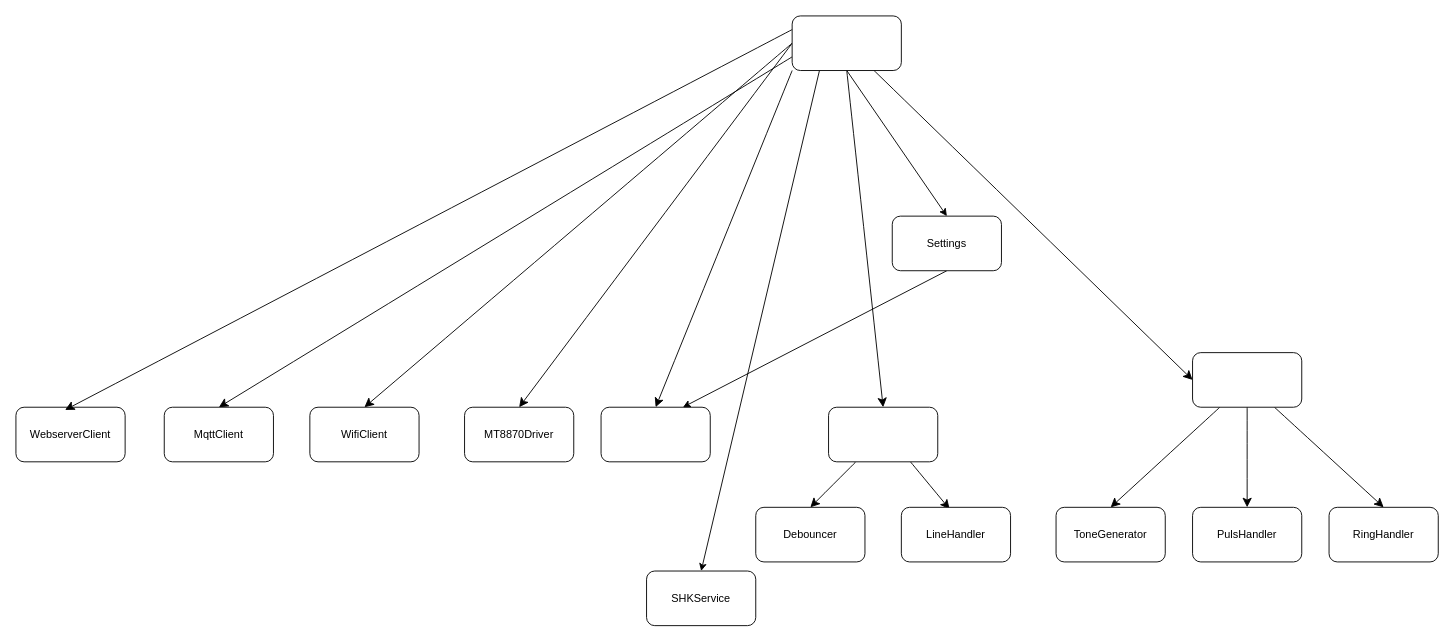
Some shapes in this 1454 by 642 pixel diagram are drawn without their labels. Here are the shapes that lost their labels. From the top down, the centre of each, then its label:
At point 846,43: "App".
At point 1247,379: "LineAction".
At point 655,434: "MCPDriver".
At point 883,434: "LineManager".
